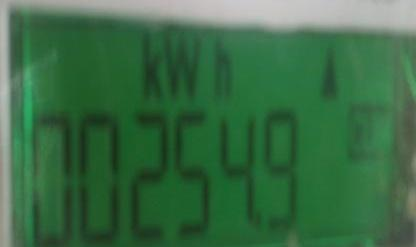.: (140, 27, 236, 101)
1: (75, 116, 123, 247), (29, 112, 70, 247)
3: (125, 112, 171, 240)
5: (217, 114, 259, 224)
6: (171, 107, 215, 233)
:: (261, 110, 304, 224)
